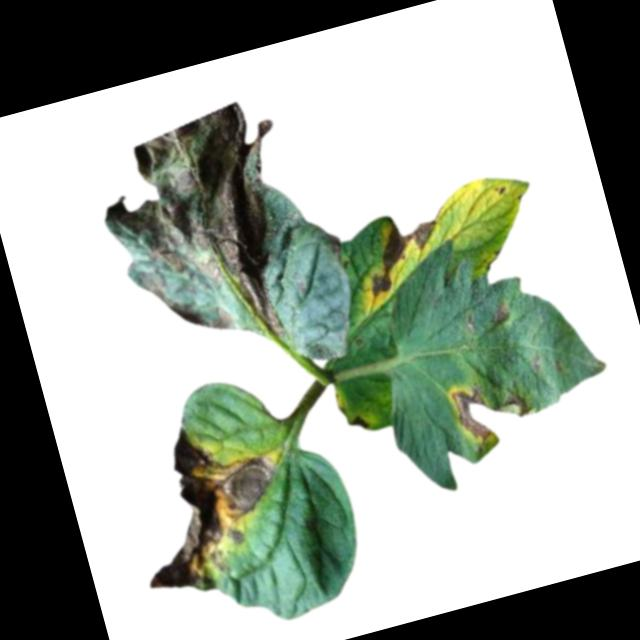Early_blight: (82, 93, 327, 374), (111, 405, 305, 608), (353, 205, 452, 298), (447, 367, 537, 449), (489, 303, 516, 332), (327, 233, 345, 262), (346, 413, 373, 432)
